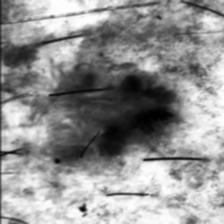Potentially Malignant Skin Tumors: (114, 80, 174, 130), (95, 125, 127, 155)
